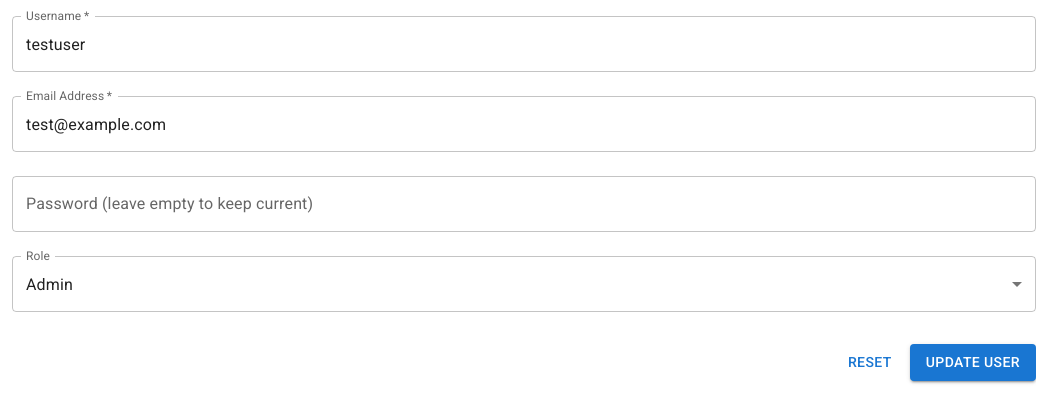
Test: UserForm Component › resets form to initial values when reset button is clicked
// Change form values
Replace the text in the field labelled "Username *" with "changeduser" at x=524, y=44, box [12,16,1036,72]
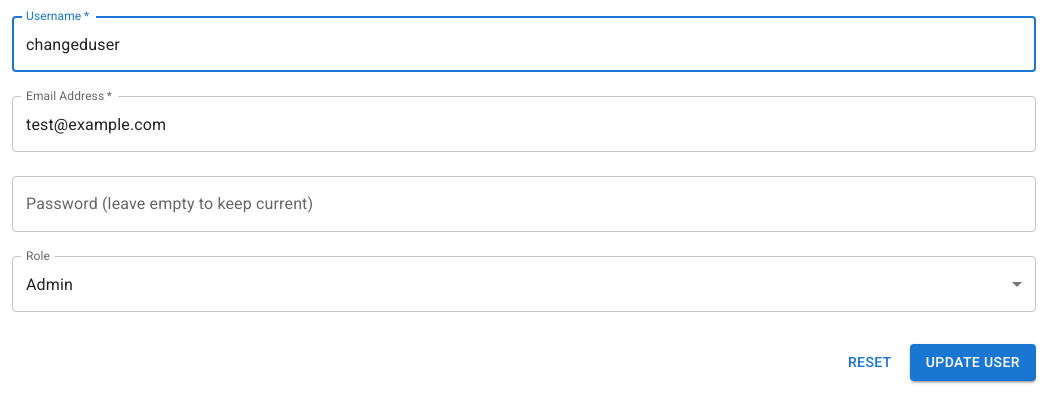
Replace the text in the field labelled "Email Address *" with "changed@example.com" at x=524, y=124, box [12,96,1036,152]
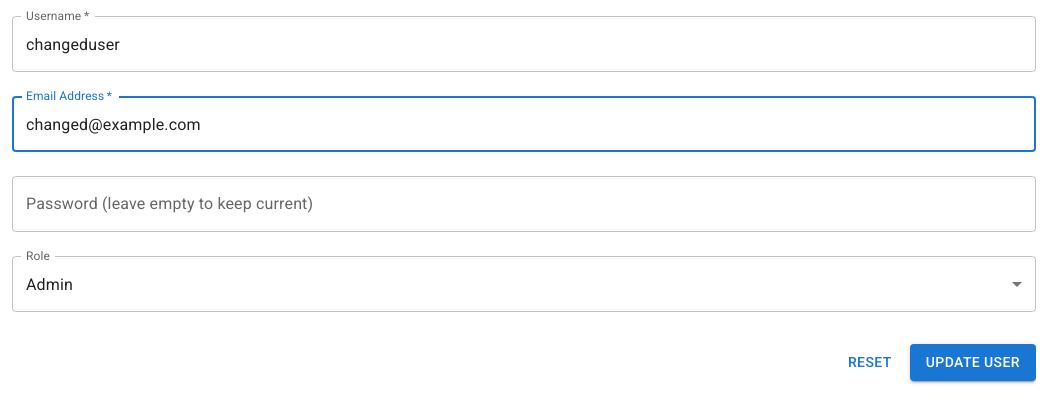
// Click reset button
Click the button "Reset" at x=870, y=362, box [838,344,902,380]
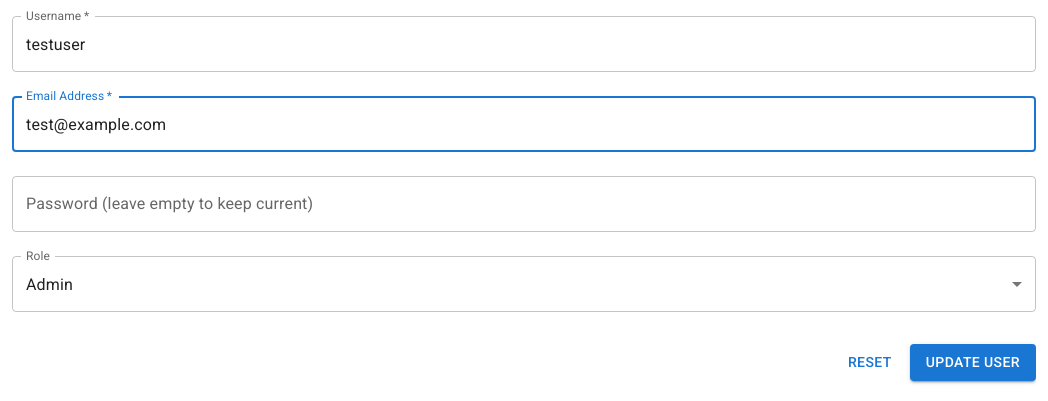
Now the field labelled "Username *" holds "testuser", box [12,16,1036,72]
Now the field labelled "Email Address *" holds "test@example.com", box [12,96,1036,152]
